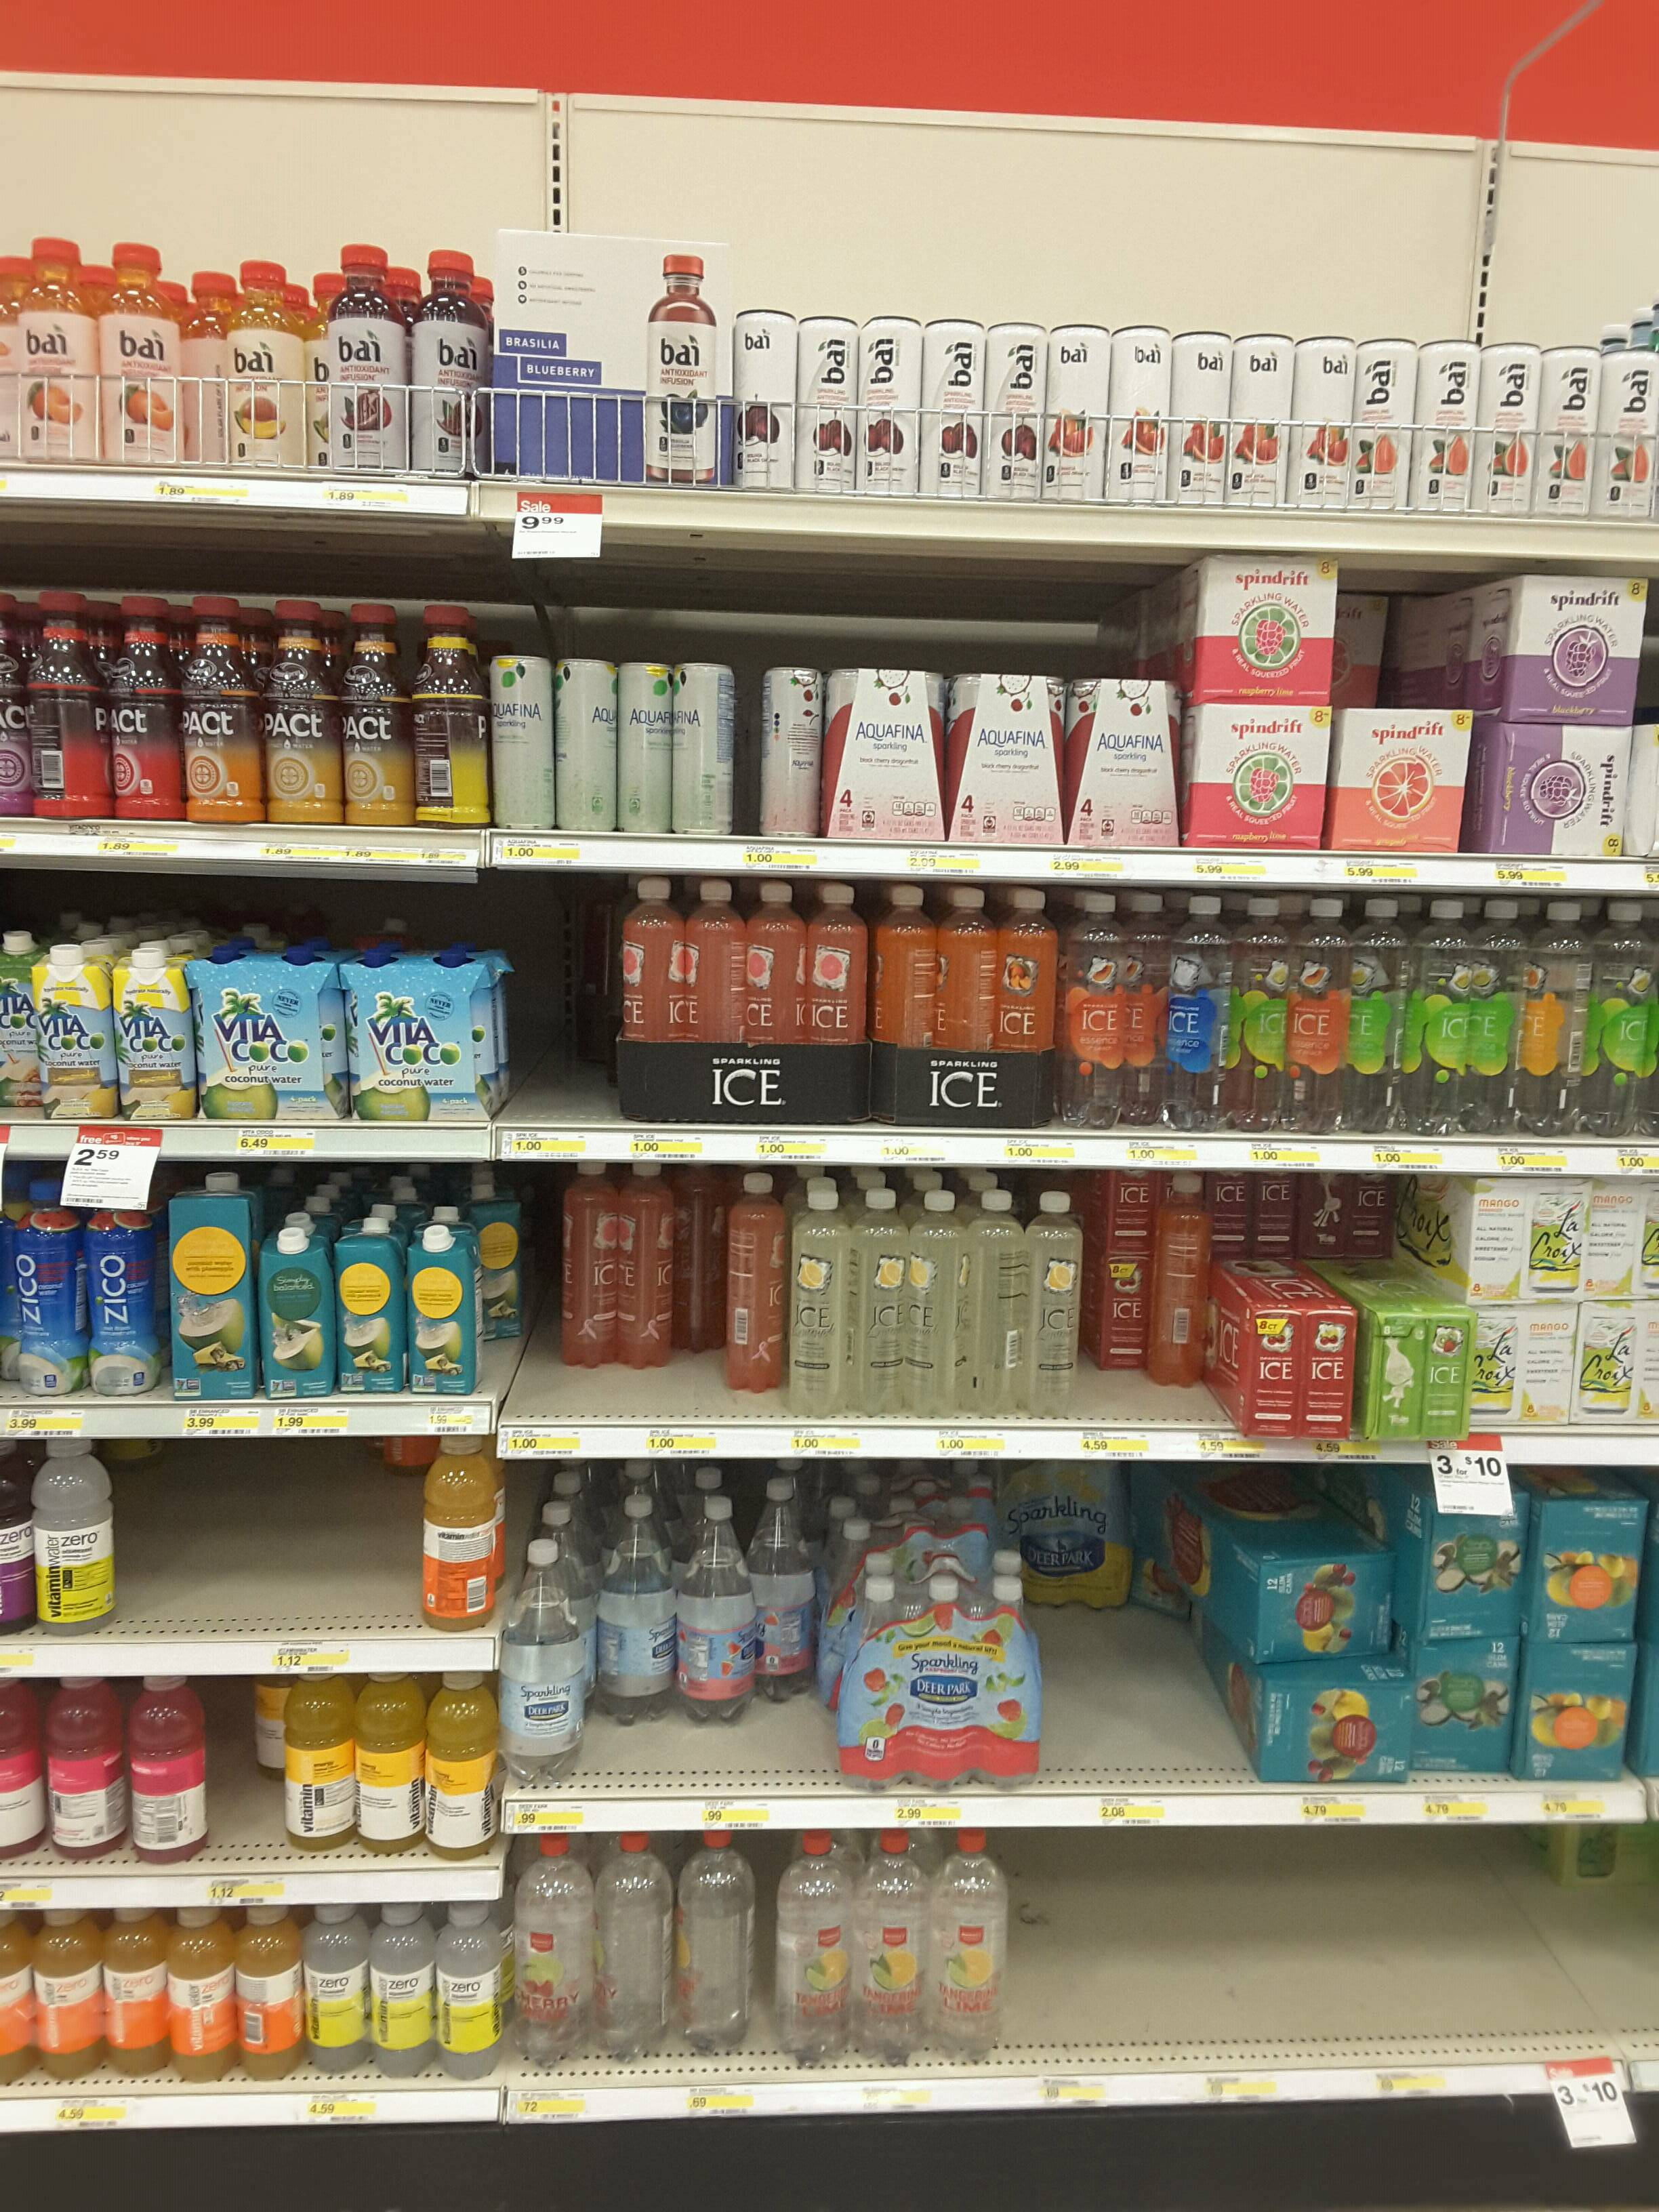Misplacement: (532, 1169, 711, 1421)
Out-of-stock: (1011, 1825, 1202, 2064)
